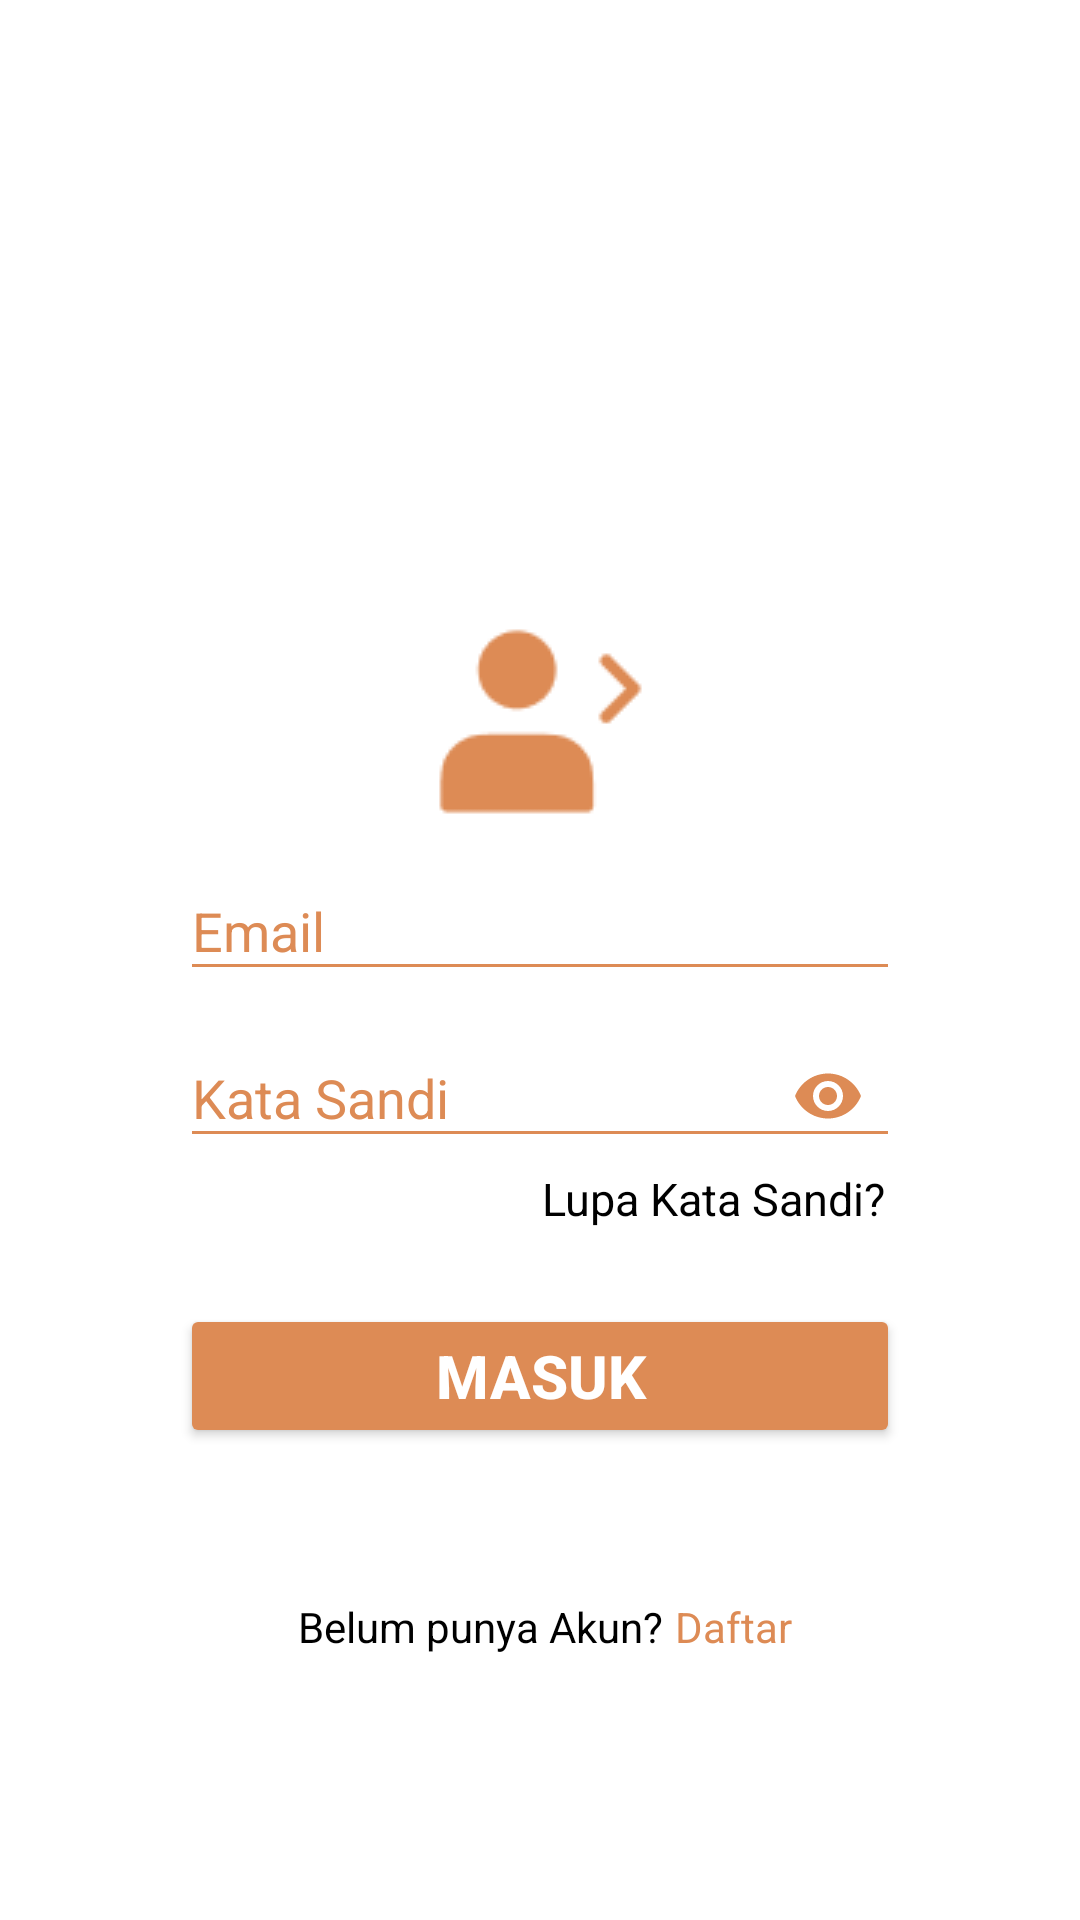

Icon bounding boxes for this 1080w x 1920h phone screenshot, format [x1,y1,x2,y2]:
login: [439,629,642,814]
